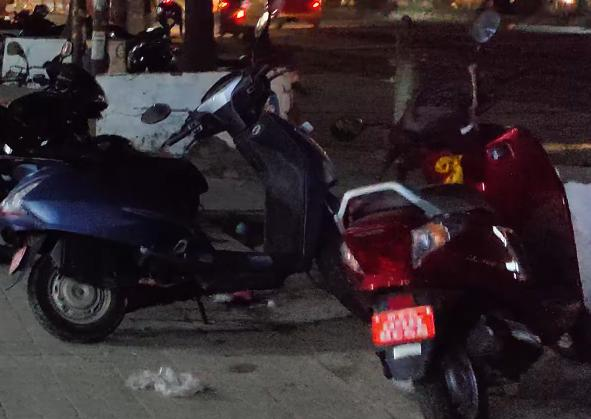scooter: (0, 50, 377, 342), (327, 70, 588, 419)
